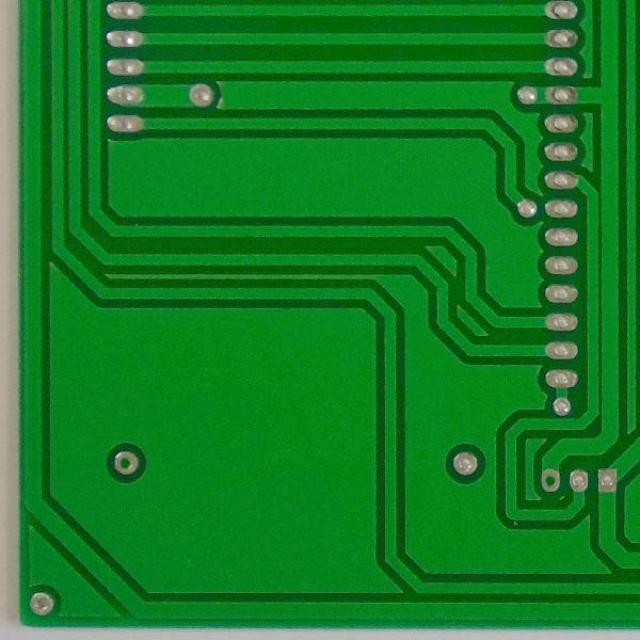Missing_Hole: (113, 451, 139, 474), (540, 468, 560, 492)
